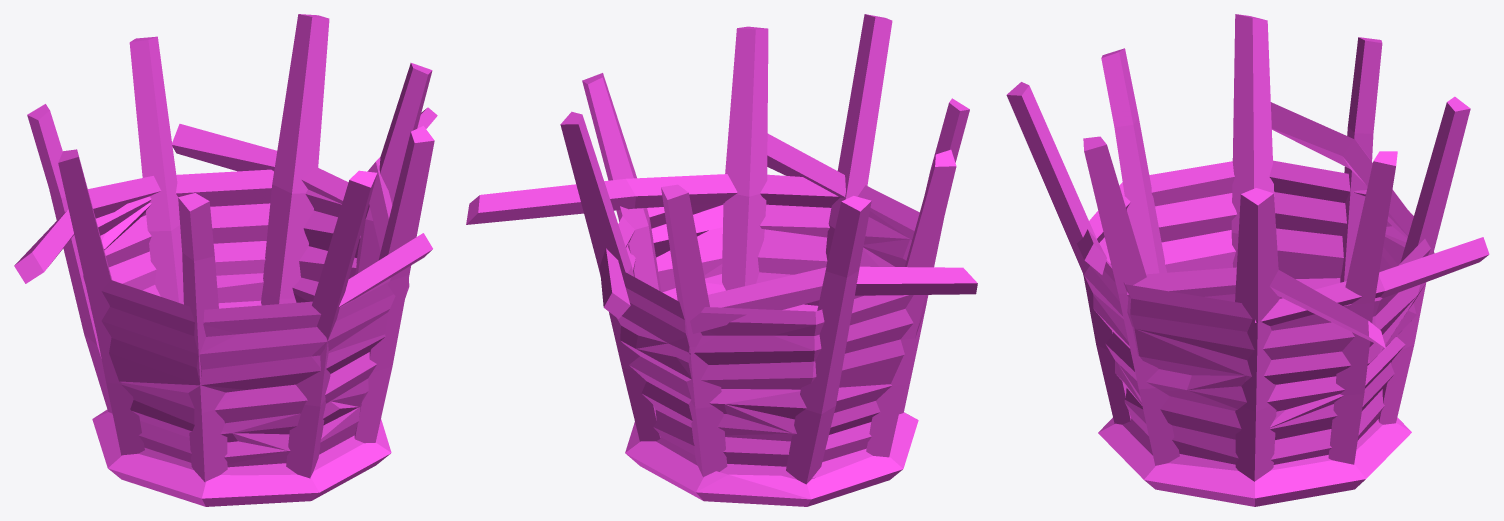
Rendered from SM_Basket_Process_Fantasy.fbx.
3 renders of one model, left to right at view 1: azimuth 30°, elevation 25°; view 2: azimuth 150°, elevation 25°; view 3: azimuth 270°, elevation 25°, orthographic. The views are drawn at different scales.
Visible parts, largest first — view 1: SM_Basket_Process_Fantasy; view 2: SM_Basket_Process_Fantasy; view 3: SM_Basket_Process_Fantasy.
Boxes of the visible parts, box(x1,y1,x2,y2) form: SM_Basket_Process_Fantasy: box(14, 14, 437, 506); SM_Basket_Process_Fantasy: box(466, 14, 977, 506); SM_Basket_Process_Fantasy: box(1006, 14, 1489, 506).
Bounding box in the file's own units: 0.5821 × 0.4246 × 0.5096.
